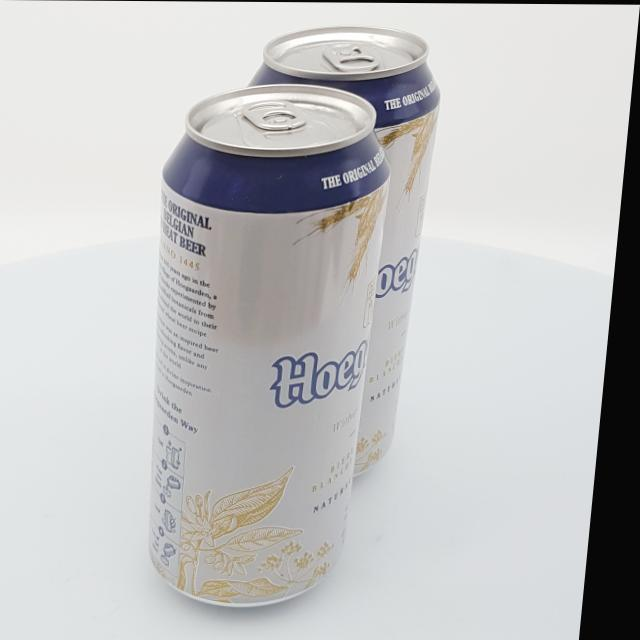beer-can: (133, 83, 401, 608)
